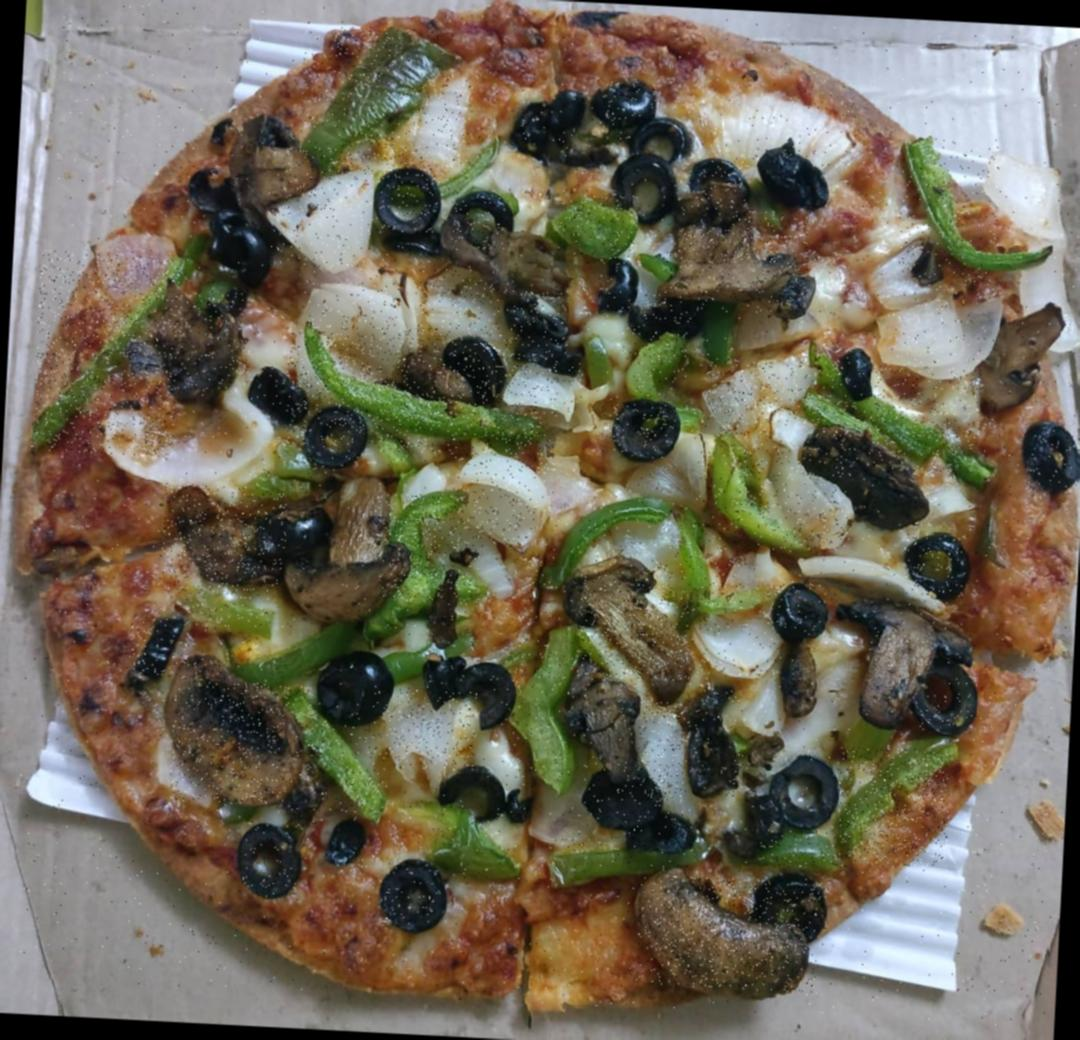Mushroom: (636, 874, 822, 994), (170, 658, 309, 808), (283, 484, 412, 627), (664, 205, 810, 317), (576, 557, 697, 682), (159, 484, 287, 592), (865, 598, 944, 709), (144, 288, 248, 372), (568, 658, 643, 774), (982, 304, 1062, 409)
Olives: (185, 170, 273, 277), (682, 689, 748, 800), (420, 655, 518, 724), (765, 758, 834, 832), (246, 501, 332, 560), (238, 822, 304, 895), (320, 654, 395, 716), (516, 88, 583, 156), (441, 768, 524, 822), (509, 291, 570, 363), (376, 168, 440, 236), (606, 396, 676, 458), (906, 532, 968, 600), (610, 162, 675, 226), (583, 776, 666, 824), (760, 142, 821, 207), (918, 671, 978, 737), (130, 616, 192, 678), (447, 342, 509, 403), (760, 873, 824, 932), (384, 863, 442, 927), (162, 347, 234, 398), (307, 406, 361, 472), (1029, 426, 1080, 495), (599, 80, 657, 140), (766, 581, 828, 636), (451, 191, 506, 250), (631, 117, 689, 171), (693, 160, 751, 212), (624, 806, 688, 850), (642, 294, 693, 347), (256, 370, 306, 420), (596, 253, 632, 312), (840, 352, 873, 393)
Onion: (94, 398, 283, 484), (883, 274, 997, 380), (272, 162, 375, 272), (714, 92, 858, 170), (450, 450, 550, 548), (705, 358, 814, 443), (372, 686, 479, 772), (760, 452, 852, 550), (302, 276, 403, 354), (626, 698, 691, 802), (418, 260, 504, 333), (415, 78, 475, 170), (697, 620, 781, 678), (506, 357, 584, 412)
Peppers: (284, 324, 561, 460), (32, 251, 183, 458), (299, 23, 440, 175), (808, 361, 983, 476), (898, 136, 1001, 284), (835, 745, 952, 868), (277, 699, 390, 814), (694, 442, 799, 556), (381, 492, 484, 606), (535, 491, 660, 572), (508, 636, 578, 780), (414, 807, 523, 883), (228, 624, 355, 688), (671, 524, 758, 609), (619, 324, 691, 409), (554, 188, 640, 258), (550, 834, 694, 872), (174, 578, 270, 635), (759, 829, 854, 871)
Pizza: (10, 0, 1080, 1032)
